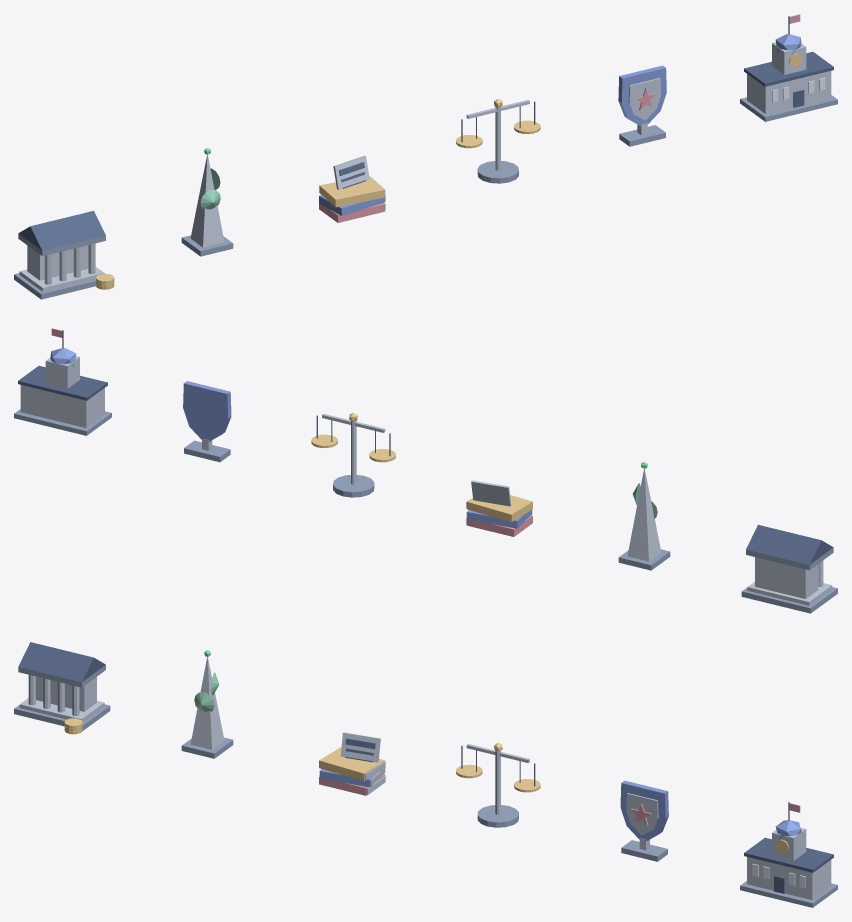
The model's file is market-avatars.glb.
3 views of the same model, one above another, from view 1: azimuth 30°, elevation 25°; view 2: azimuth 150°, elevation 25°; view 3: azimuth 330°, elevation 25° (orthographic).
Parts seen in each view (by area): view 1: avatar-bank, avatar-public, avatar-publisher, avatar-defense, avatar-telco, avatar-governance; view 2: avatar-bank, avatar-public, avatar-defense, avatar-publisher, avatar-telco, avatar-governance; view 3: avatar-bank, avatar-public, avatar-publisher, avatar-defense, avatar-telco, avatar-governance.
Boxes of the visible parts, x1=… form: avatar-bank: x1=14, y1=211, x2=114, y2=299; avatar-public: x1=740, y1=14, x2=837, y2=121; avatar-publisher: x1=319, y1=155, x2=385, y2=222; avatar-defense: x1=618, y1=65, x2=666, y2=146; avatar-telco: x1=181, y1=148, x2=233, y2=256; avatar-governance: x1=456, y1=99, x2=540, y2=183; avatar-bank: x1=741, y1=525, x2=837, y2=613; avatar-public: x1=14, y1=328, x2=111, y2=435; avatar-defense: x1=183, y1=381, x2=231, y2=462; avatar-publisher: x1=466, y1=480, x2=532, y2=536; avatar-telco: x1=618, y1=462, x2=670, y2=570; avatar-governance: x1=311, y1=413, x2=395, y2=497; avatar-bank: x1=14, y1=642, x2=110, y2=734; avatar-public: x1=740, y1=802, x2=837, y2=907; avatar-publisher: x1=319, y1=732, x2=385, y2=795; avatar-defense: x1=620, y1=780, x2=668, y2=861; avatar-telco: x1=181, y1=650, x2=233, y2=758; avatar-governance: x1=456, y1=743, x2=540, y2=827.
Bounding box in the file's own units: 21.95 × 2.57 × 1.62.
